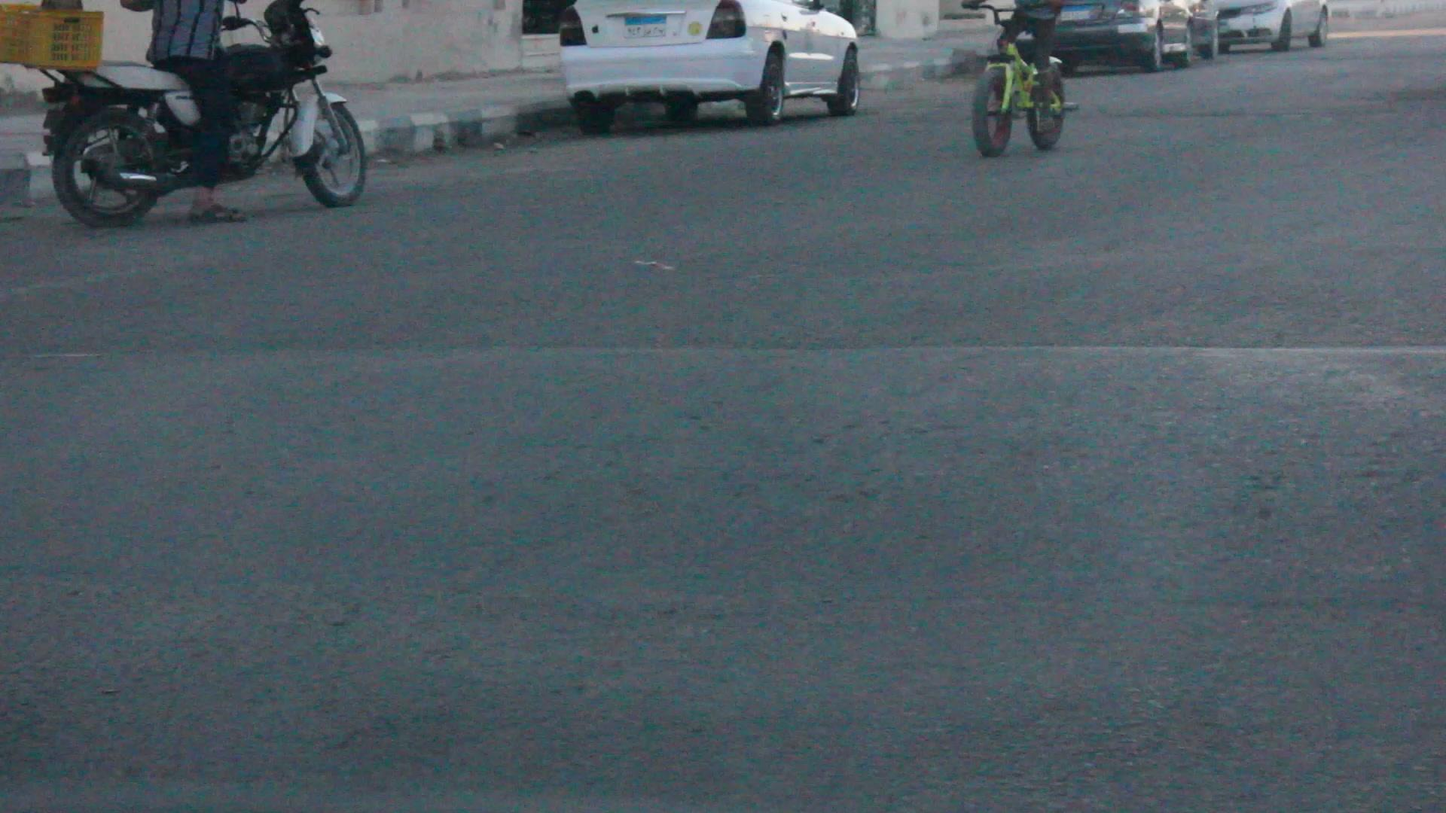Bump: (0, 367, 1446, 711)
